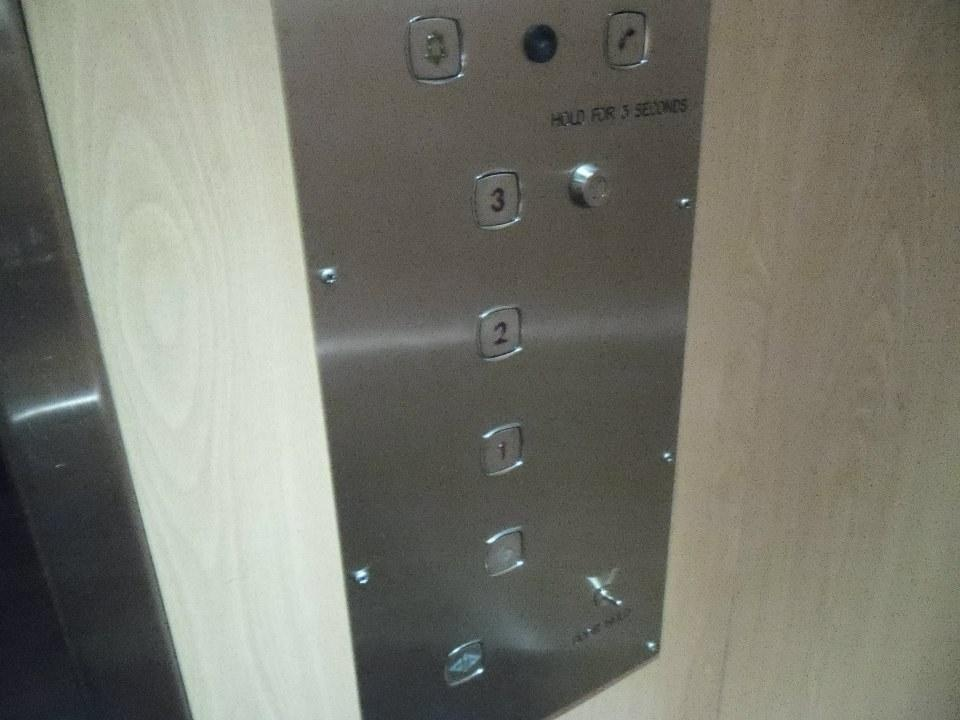1: (481, 423, 525, 476)
2: (477, 303, 524, 363)
3: (471, 168, 526, 230)
G: (482, 524, 527, 579)
alarm: (403, 13, 466, 85)
call: (601, 8, 649, 72)
keyhole: (569, 163, 613, 211)
open: (444, 637, 487, 688)
switch: (589, 580, 627, 616)
